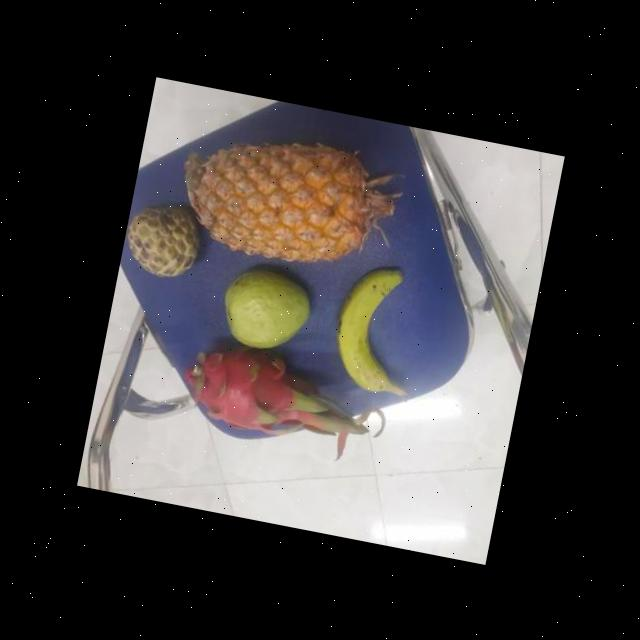Sakya fruit: (120, 196, 210, 282)
banana: (324, 264, 424, 398)
guava: (216, 262, 320, 356)
pineapple: (180, 121, 386, 274)
pitaya: (180, 336, 314, 446)
